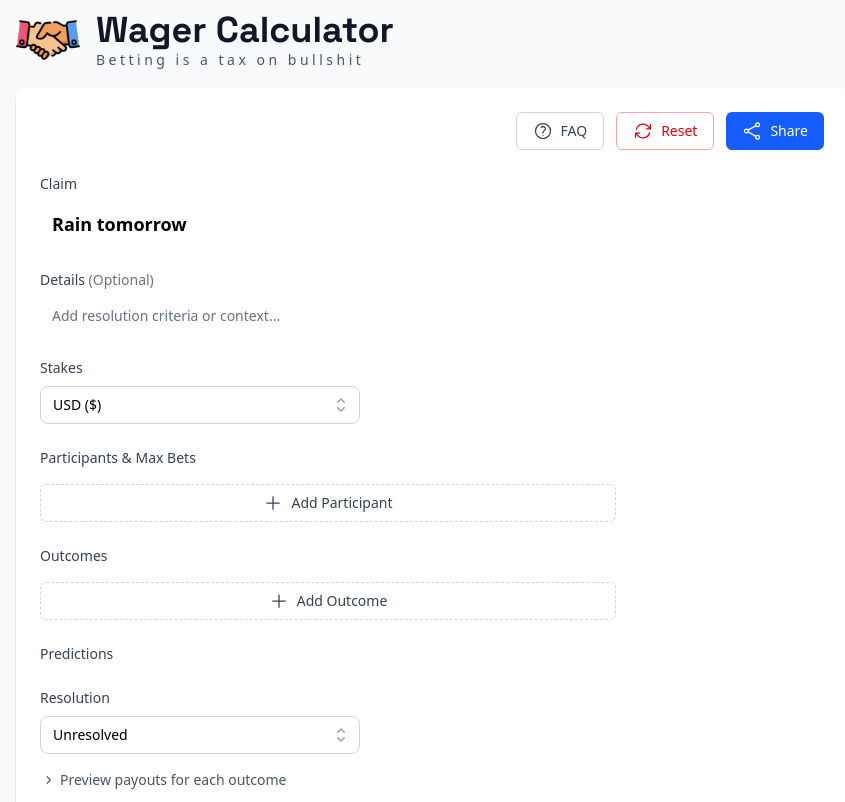
Test case: App - Stakes LocalStorage › share › copies the URL to the clipboard on non-touch devices and announces it
Click the button "Share": click(775, 131) [726, 112, 824, 150]
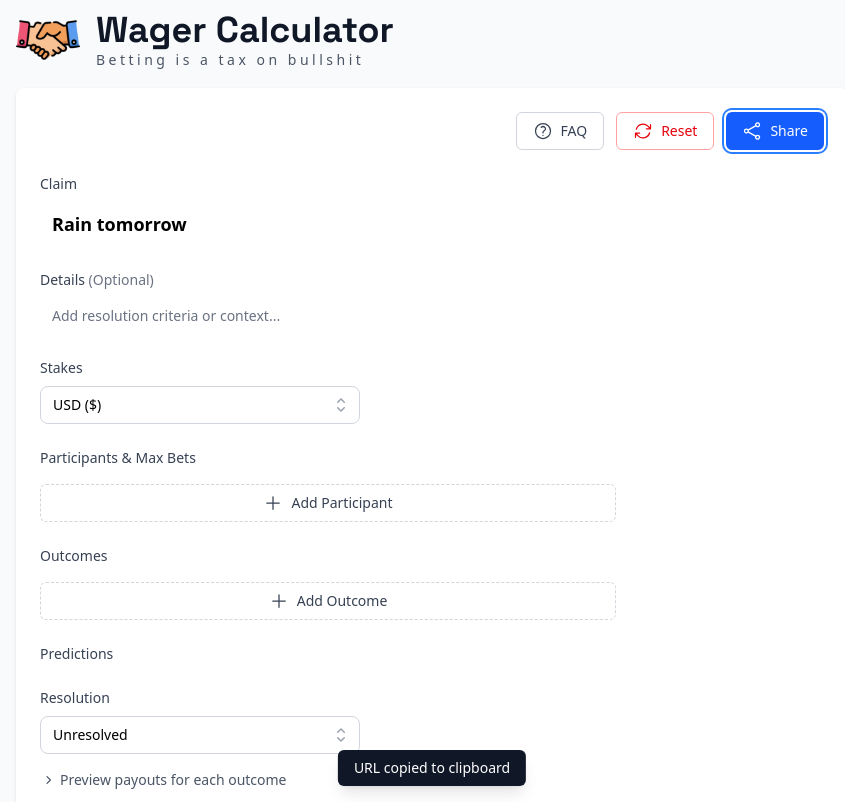
Expected: the message shows "copied", [354, 758, 510, 777]
